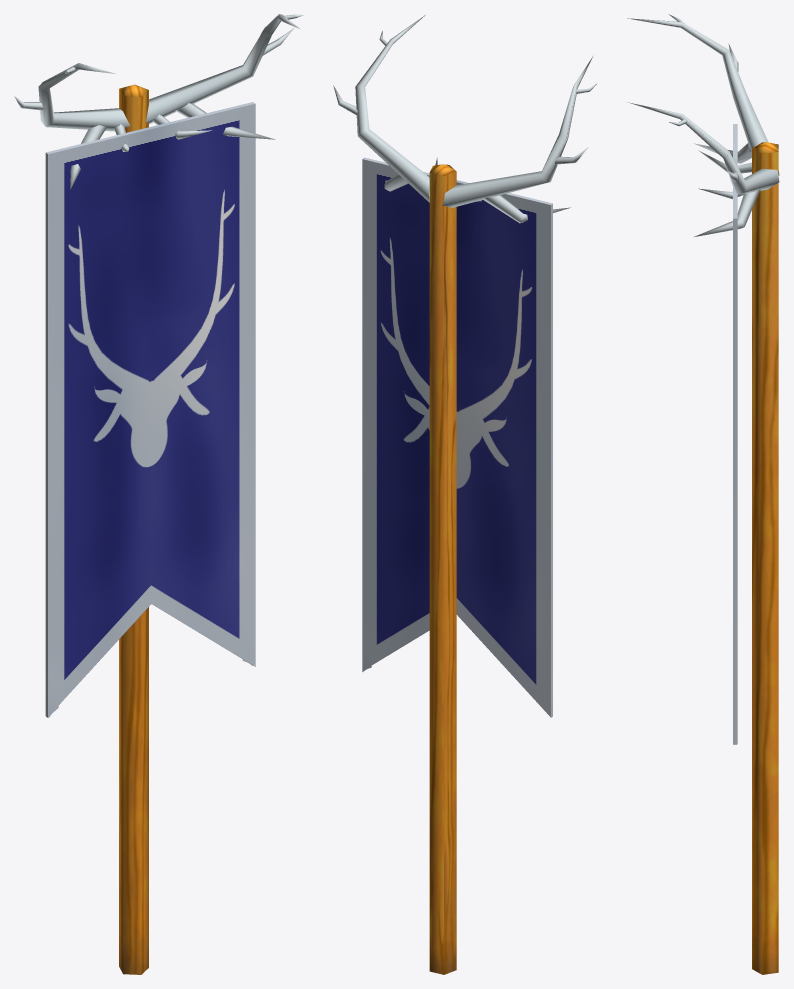
The model's file is AntlerFlag.fbx.
3 views of the same model, side by side, from view 1: azimuth 30°, elevation 25°; view 2: azimuth 150°, elevation 25°; view 3: azimuth 270°, elevation 25° (orthographic). The views are drawn at different scales.
Parts seen in each view (by area): view 1: AntlerFlag; view 2: AntlerFlag; view 3: AntlerFlag.
Boxes of the visible parts, x1,y1,x2,y2 form: AntlerFlag: [14, 14, 303, 974]; AntlerFlag: [333, 15, 596, 974]; AntlerFlag: [627, 14, 779, 974].
Size of the model in its own units: 126 by 418 by 63.8.
